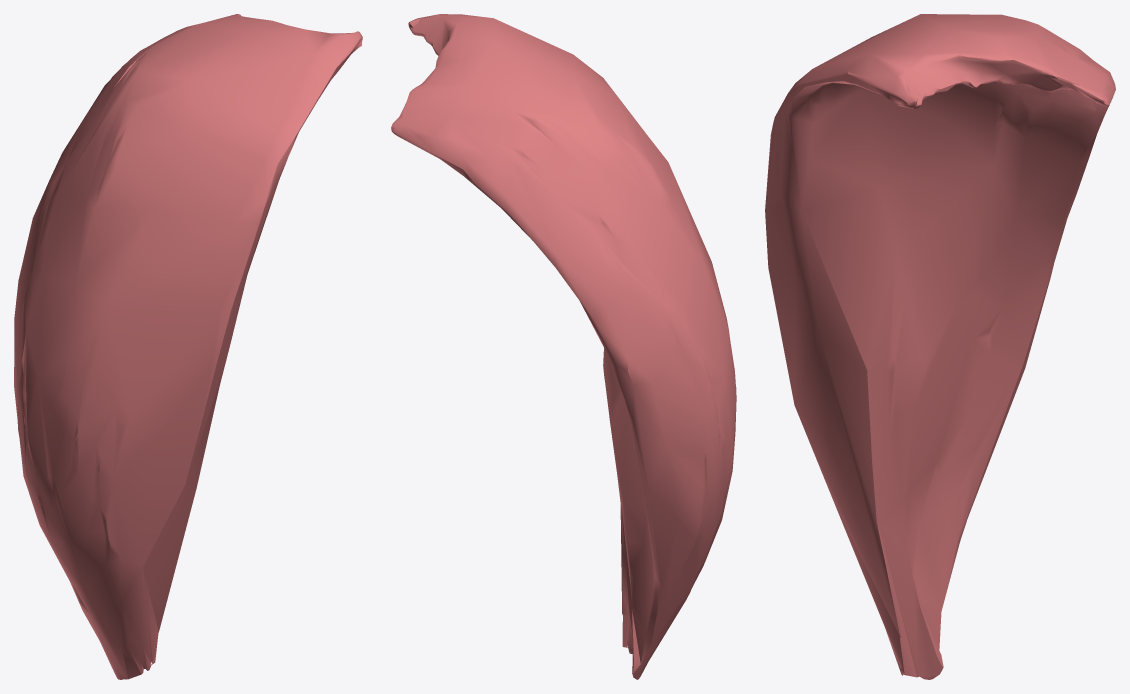
3 renders of one model, left to right at view 1: azimuth 30°, elevation 25°; view 2: azimuth 150°, elevation 25°; view 3: azimuth 270°, elevation 25°, orthographic. The views are drawn at different scales.
Parts seen in each view (by area): view 1: FJ1467; view 2: FJ1467; view 3: FJ1467.
Boxes of the visible parts, <box> form: FJ1467: <box>14,14,362,679</box>; FJ1467: <box>391,14,736,679</box>; FJ1467: <box>765,14,1115,679</box>.
Bounding box in the file's own units: 0.0802 × 0.1434 × 0.0622.
